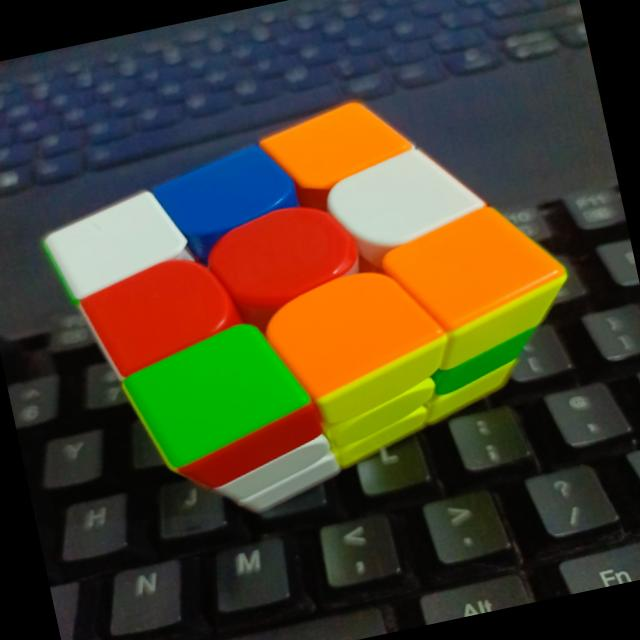rubik: (24, 62, 604, 545)
